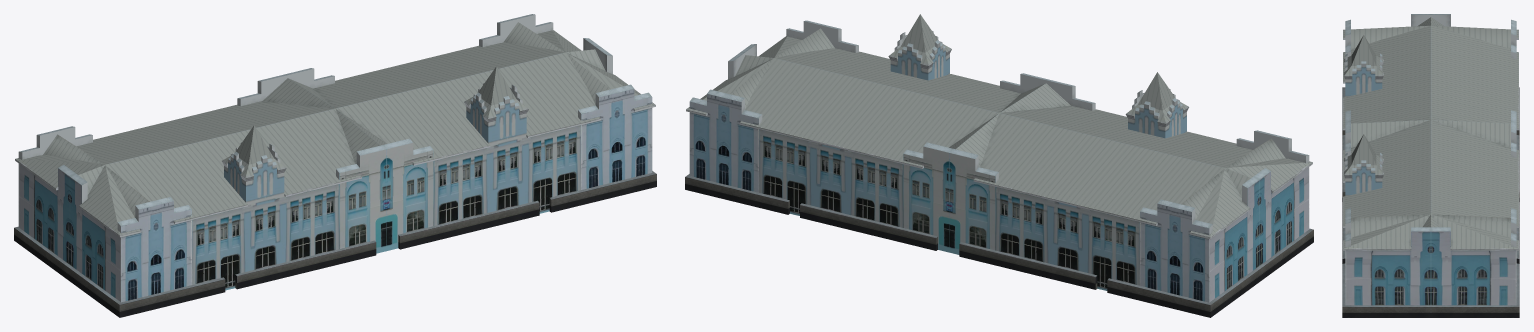
The model's file is kestrelStation.glb.
The picture shows the model from 3 angles, left to right: view 1: azimuth 30°, elevation 25°; view 2: azimuth 150°, elevation 25°; view 3: azimuth 270°, elevation 25°; orthographic projection. The views are drawn at different scales.
Parts seen in each view (by area): view 1: kestrelStation; view 2: kestrelStation; view 3: kestrelStation.
Part boxes in pixels (x1,y1,x2,y2): kestrelStation: (14,14,656,317); kestrelStation: (685,14,1313,317); kestrelStation: (1342,14,1519,317).
Bounding box in the file's own units: 91 × 23.9 × 31.
1 material, 1 textured.
